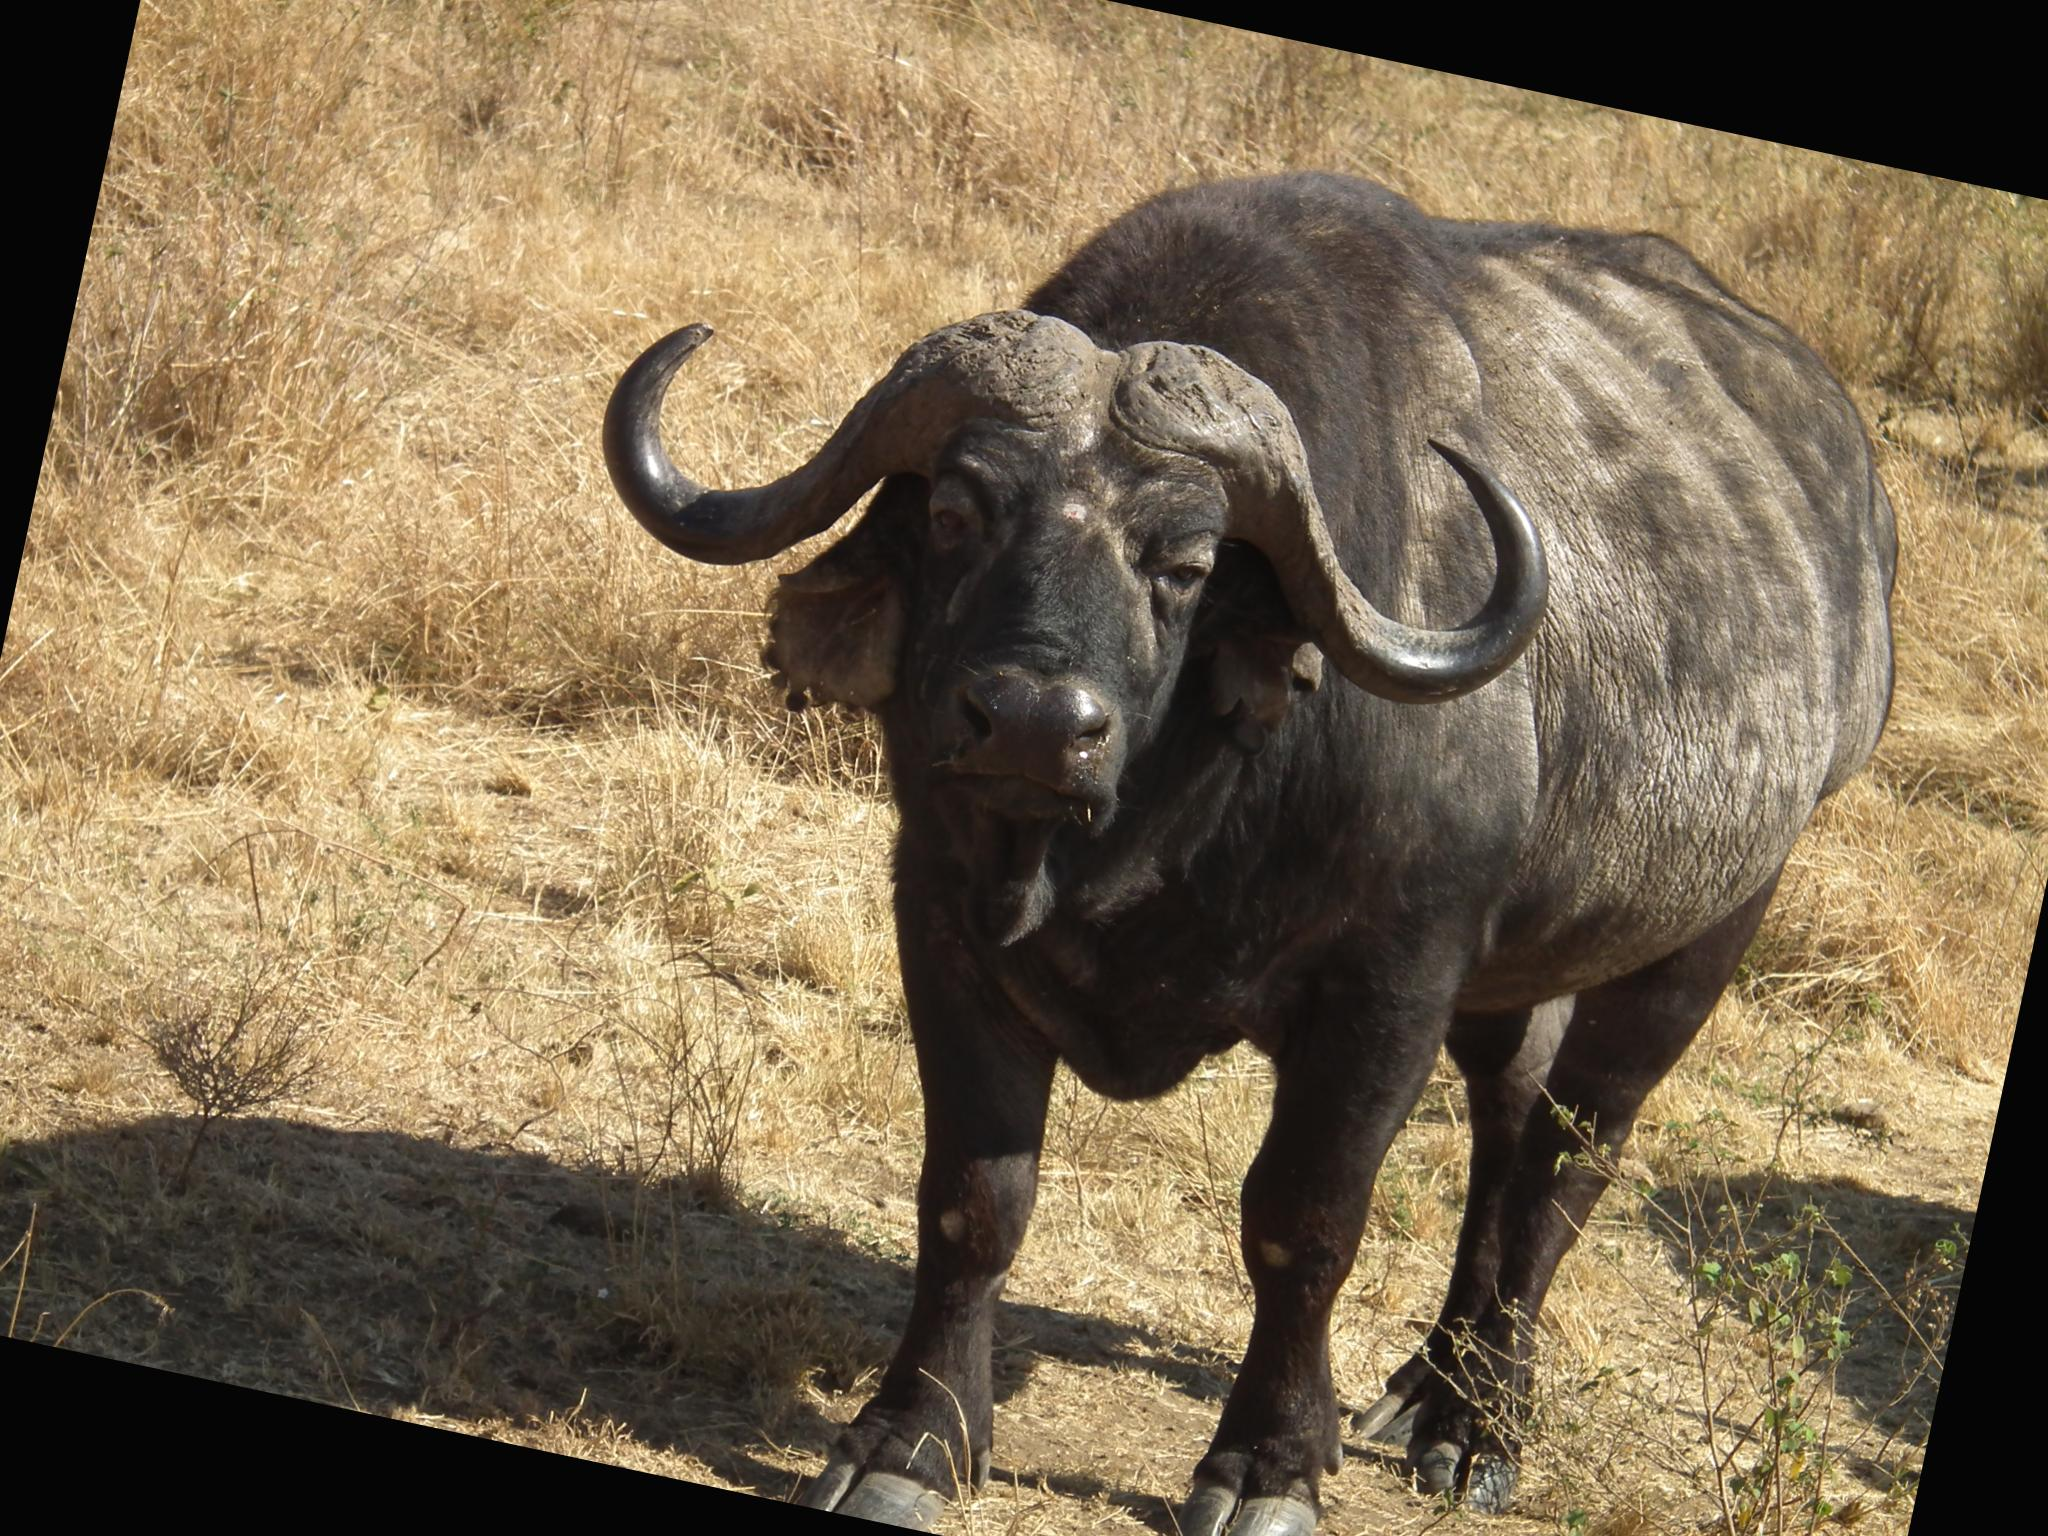Buffalo: (229, 0, 2048, 1536)
